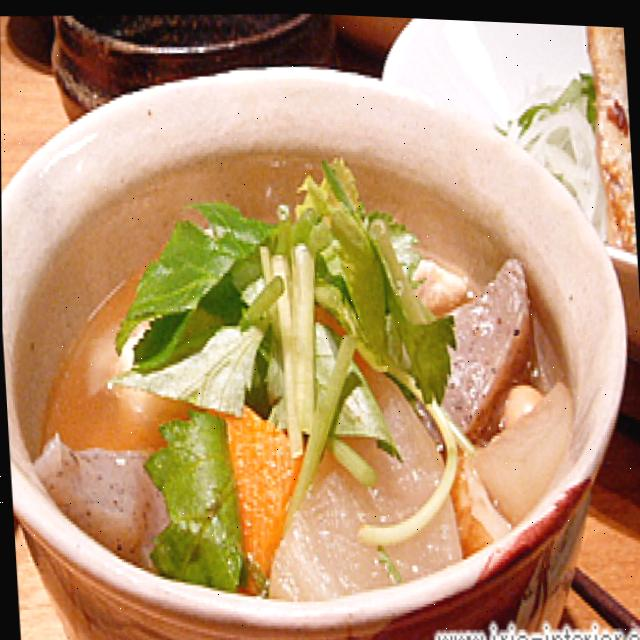蔬菜料理: (0, 31, 640, 640)
